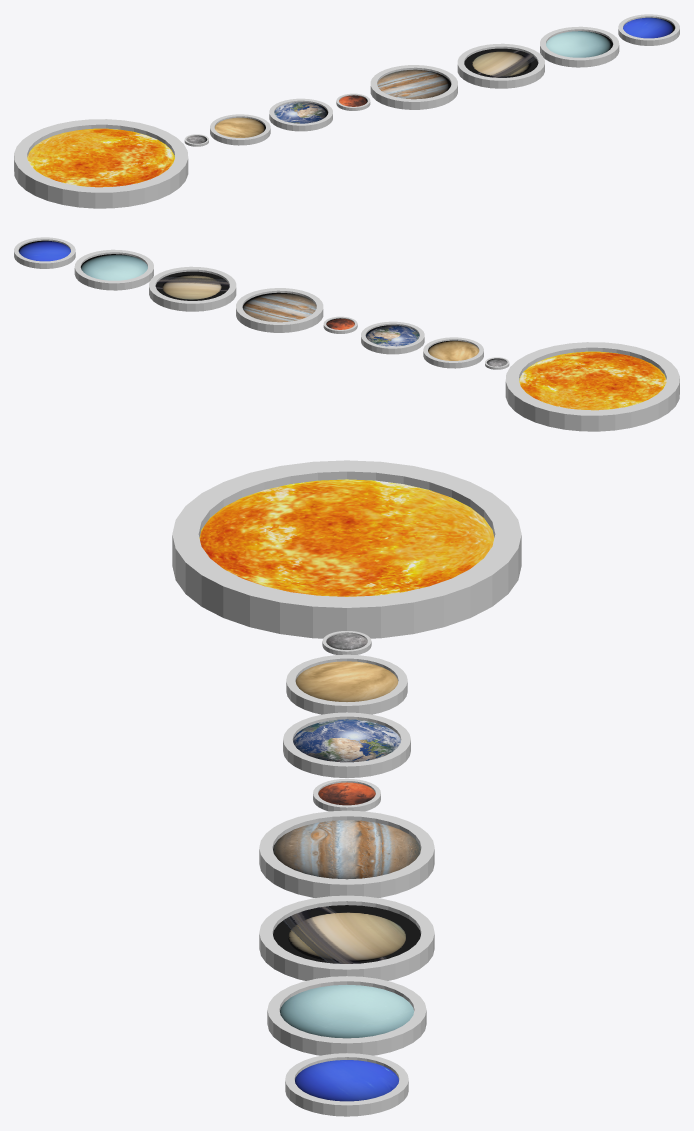
File: Planets.fbx
The picture shows the model from 3 angles, top to bottom: view 1: azimuth 30°, elevation 25°; view 2: azimuth 150°, elevation 25°; view 3: azimuth 270°, elevation 25°; orthographic projection. The views are drawn at different scales.
Parts seen in each view (by area): view 1: Sun, Saturn, Jupiter, Uranus, Earth, Neptune, Venus, Mars; view 2: Sun, Saturn, Jupiter, Uranus, Earth, Neptune, Venus, Mars; view 3: Sun, Jupiter, Saturn, Uranus, Earth, Neptune, Venus, Mars, Mercury.
Boxes of the visible parts, x1,y1,x2,y2 form: Sun: (14, 119, 188, 208); Saturn: (457, 43, 544, 88); Jupiter: (370, 65, 457, 109); Uranus: (540, 26, 619, 67); Earth: (269, 98, 332, 131); Neptune: (618, 14, 679, 45); Venus: (210, 114, 270, 145); Mars: (336, 93, 370, 110); Sun: (505, 342, 679, 431); Saturn: (149, 266, 236, 311); Jupiter: (236, 288, 323, 332); Uranus: (74, 249, 153, 290); Earth: (361, 321, 424, 354); Neptune: (14, 237, 75, 268); Venus: (423, 337, 483, 368); Mars: (323, 316, 357, 333); Sun: (172, 460, 521, 638); Jupiter: (259, 810, 434, 897); Saturn: (259, 895, 434, 980); Uranus: (267, 976, 426, 1055); Earth: (283, 712, 410, 777); Neptune: (285, 1053, 408, 1116); Venus: (286, 654, 407, 714); Mars: (313, 778, 380, 811); Mercury: (322, 631, 371, 654).
Size of the model in its own units: 374 by 8.7 by 86.96.
Materials: 10 (9 with a texture image).
